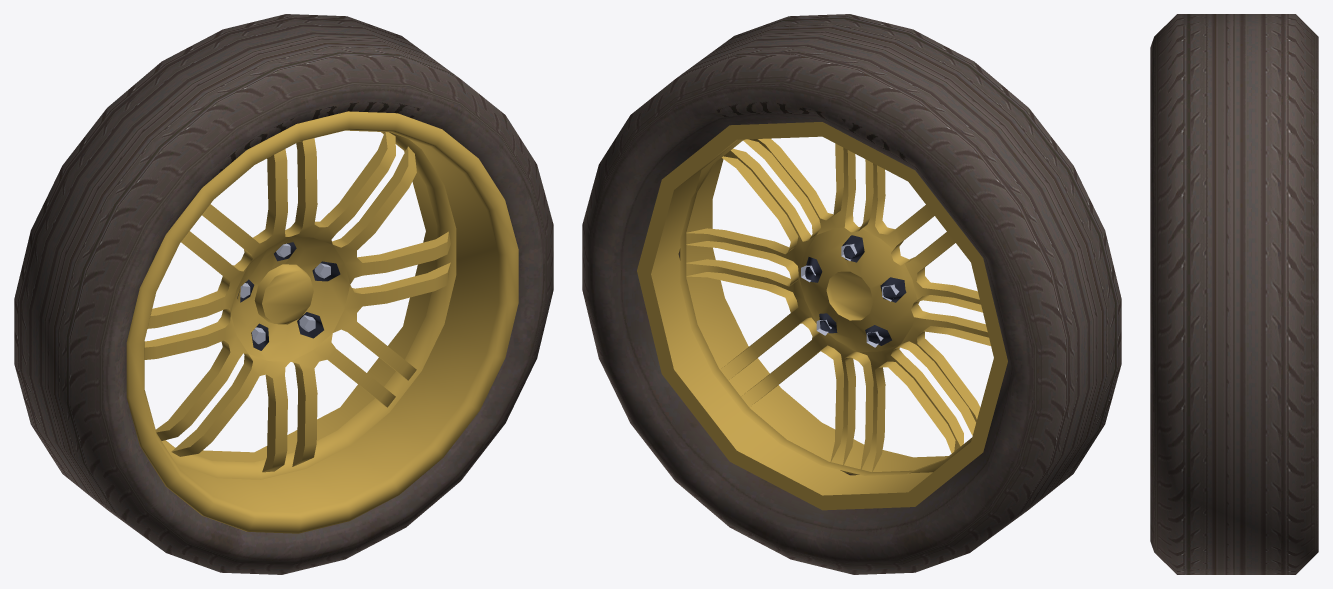
Rendered from GoldWheel.fbx.
The picture shows the model from 3 angles, left to right: view 1: azimuth 30°, elevation 25°; view 2: azimuth 150°, elevation 25°; view 3: azimuth 270°, elevation 25°; orthographic projection.
Parts seen in each view (by area): view 1: node_id330, node_id328, node_id326; view 2: node_id330, node_id328, node_id326; view 3: node_id328, node_id326.
Boxes of the visible parts, x1=… form: node_id330: x1=126, y1=111, x2=518, y2=533; node_id328: x1=14, y1=14, x2=553, y2=574; node_id326: x1=104, y1=86, x2=545, y2=562; node_id330: x1=637, y1=122, x2=1007, y2=510; node_id328: x1=582, y1=14, x2=1121, y2=574; node_id326: x1=590, y1=86, x2=1031, y2=562; node_id328: x1=1154, y1=14, x2=1318, y2=574; node_id326: x1=1150, y1=38, x2=1153, y2=550.
Bounding box in the file's own units: 0.512 × 0.512 × 0.1548.
3 materials, 3 textured.
